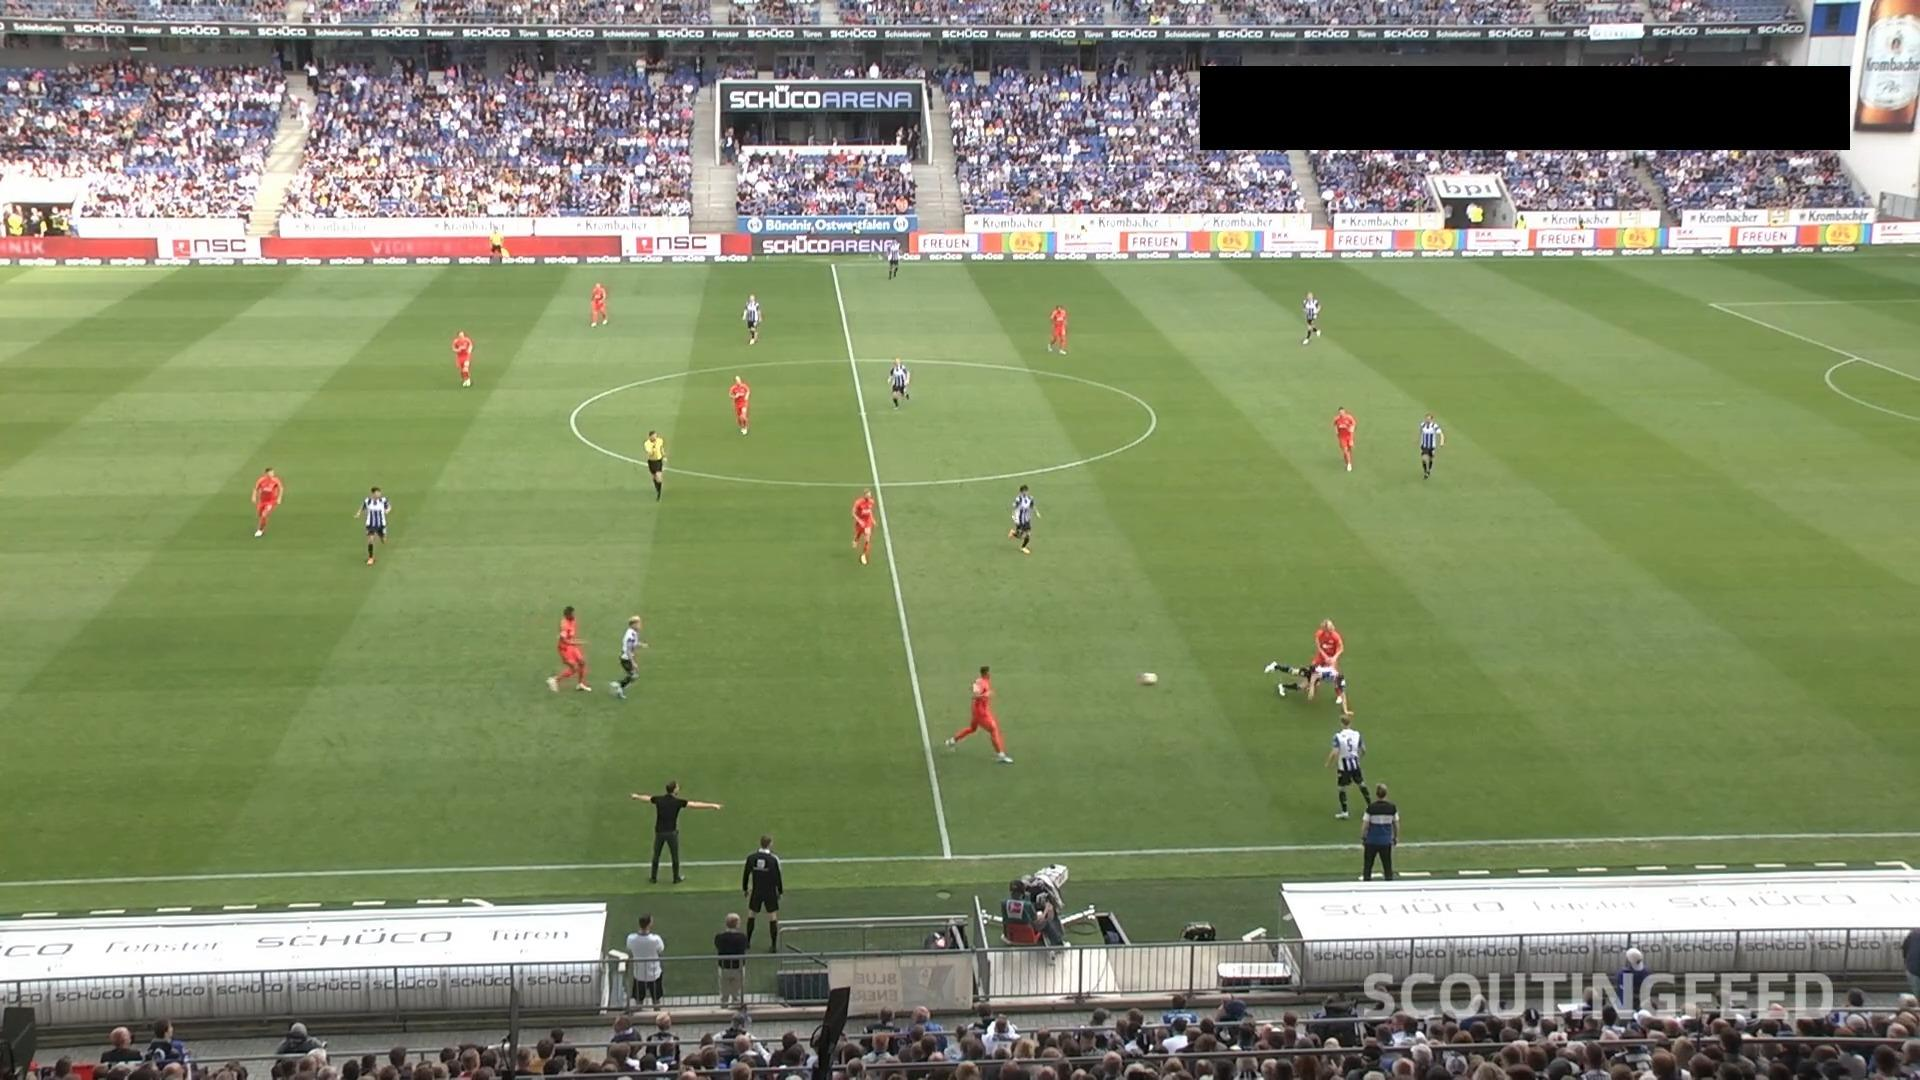ball: (1135, 670, 1159, 687)
